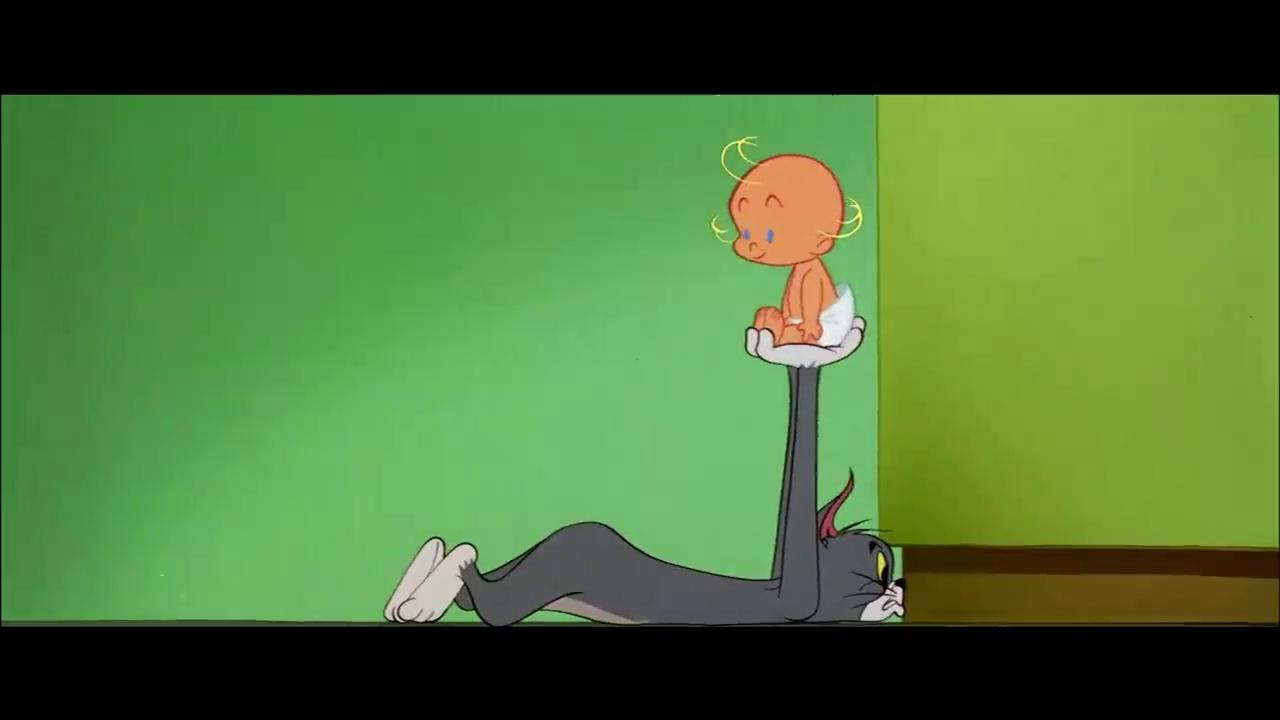Tom: (379, 311, 904, 623)
